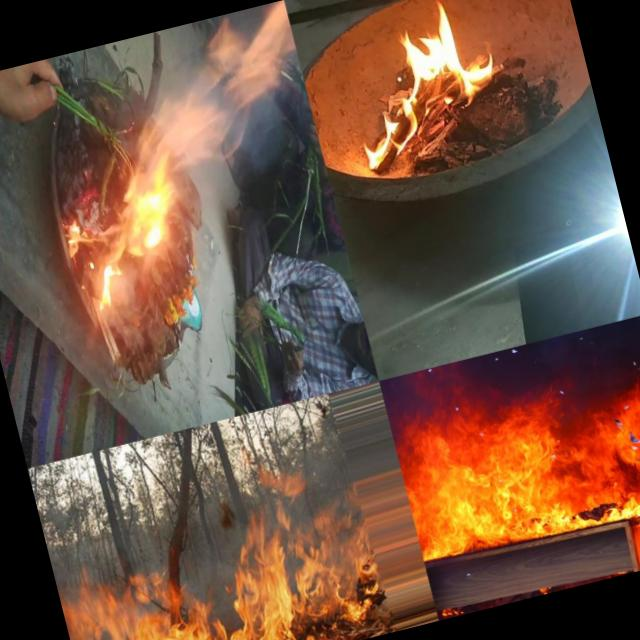fire: (389, 353, 640, 620), (45, 464, 390, 640), (336, 5, 524, 172), (148, 174, 242, 361), (82, 38, 163, 192), (236, 322, 312, 412)
smoke: (127, 28, 205, 182)
